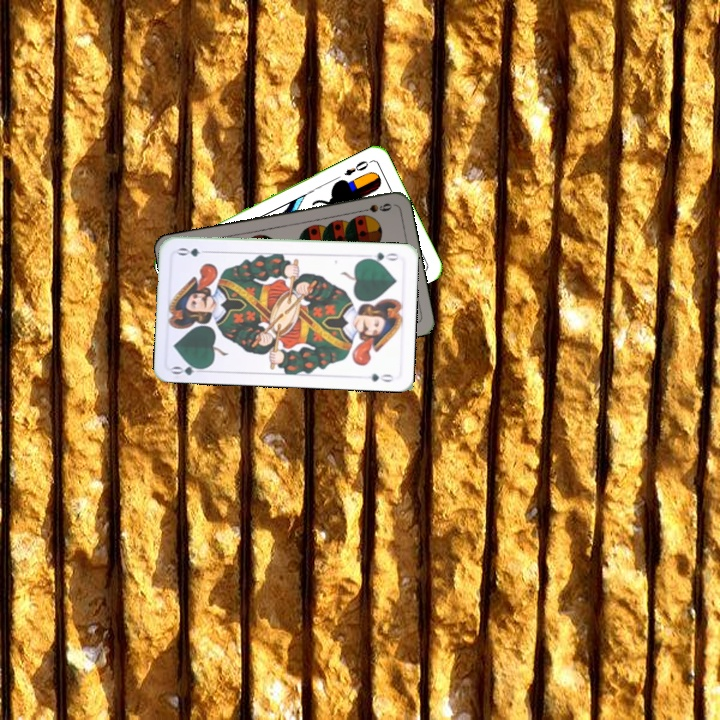EO: (340, 156, 374, 178)
GO: (168, 359, 209, 378), (361, 248, 401, 265)
S9: (354, 199, 394, 215)
